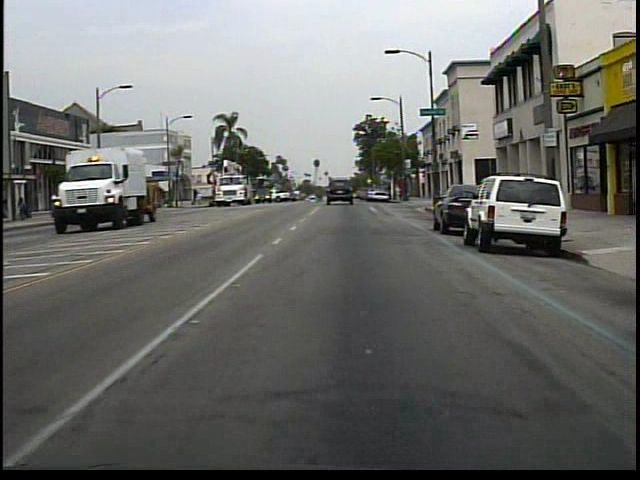person: (20, 193, 30, 222)
